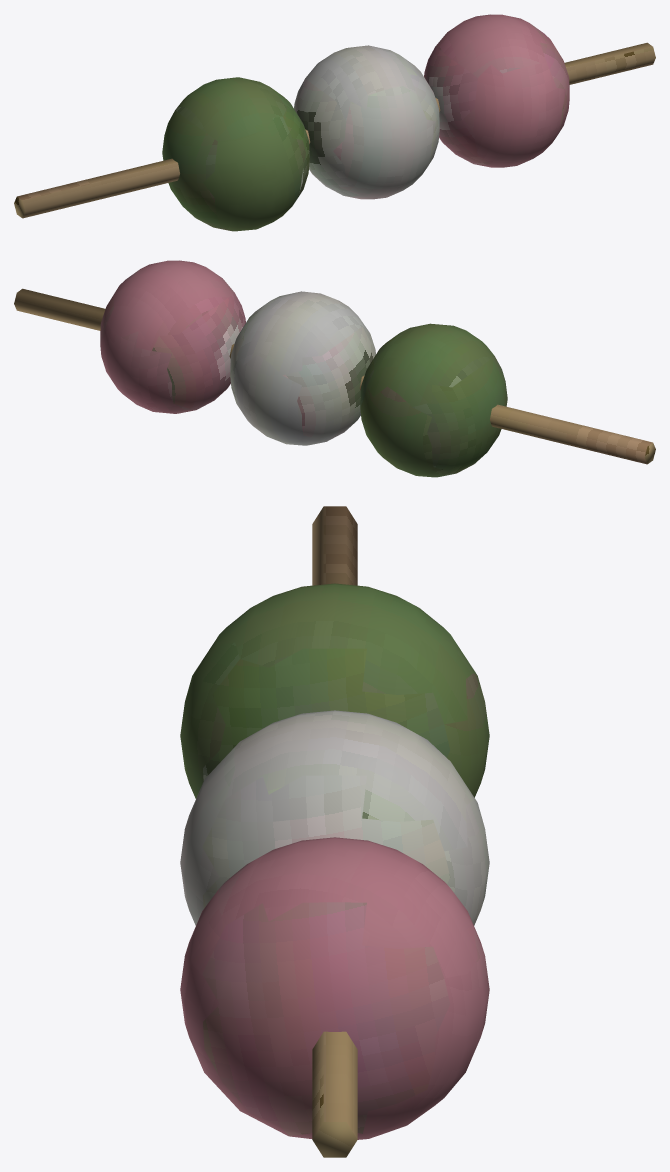
Rendered from dango.glb.
3 views of the same model, one above another, from view 1: azimuth 30°, elevation 25°; view 2: azimuth 150°, elevation 25°; view 3: azimuth 270°, elevation 25° (orthographic). The views are drawn at different scales.
Visible parts, largest first — view 1: prop_dango_felt, prop_dango_wood; view 2: prop_dango_felt, prop_dango_wood; view 3: prop_dango_felt, prop_dango_wood.
Part boxes in pixels (x1,y1,x2,y2): prop_dango_felt: [162, 14, 569, 231]; prop_dango_wood: [14, 42, 655, 218]; prop_dango_felt: [100, 260, 507, 477]; prop_dango_wood: [14, 288, 655, 464]; prop_dango_felt: [180, 583, 489, 1139]; prop_dango_wood: [312, 506, 357, 1157].
Bounding box in the file's own units: 0.24 × 0.051 × 0.051.
Materials: 2 (2 with a texture image).
